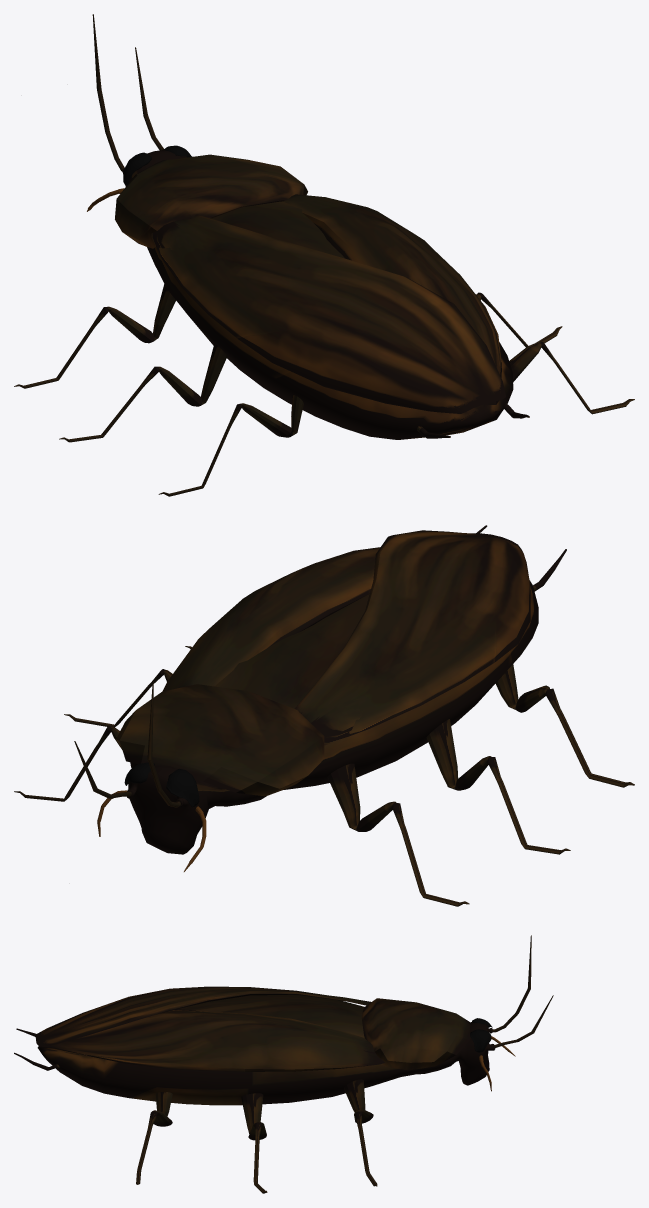
File: cucaracha.fbx
The picture shows the model from 3 angles, top to bottom: view 1: azimuth 30°, elevation 25°; view 2: azimuth 150°, elevation 25°; view 3: azimuth 270°, elevation 25°; orthographic projection. The views are drawn at different scales.
Visible parts, largest first — view 1: alas, antena cara2, cuello, pata, pata3, pata2, pata4; view 2: alas, antena cara2, cuello, pata3, pata, pata2, pata6, pata5; view 3: alas, antena cara2, cuello, pata5, pata6, pata4.
Part boxes in pixels (x1,y1,x2,y2): alas: (150,194,505,413); antena cara2: (87,14,513,439); cuello: (115,154,307,248); pata: (59,343,227,442); pata3: (14,284,175,388); pata2: (158,395,303,496); pata4: (509,342,634,414); alas: (162,530,530,745); antena cara2: (74,580,538,871); cuello: (116,684,324,796); pata3: (327,763,469,906); pata: (426,719,570,854); pata2: (495,664,634,787); pata6: (14,726,122,801); pata5: (64,669,172,727); alas: (35,986,384,1071); antena cara2: (37,935,553,1105); cuello: (361,998,470,1070); pata5: (241,1093,267,1193); pata6: (344,1079,377,1186); pata4: (136,1092,172,1184).
Size of the model in its own units: 5.51 by 2.68 by 8.77.
5 materials, 3 textured.
